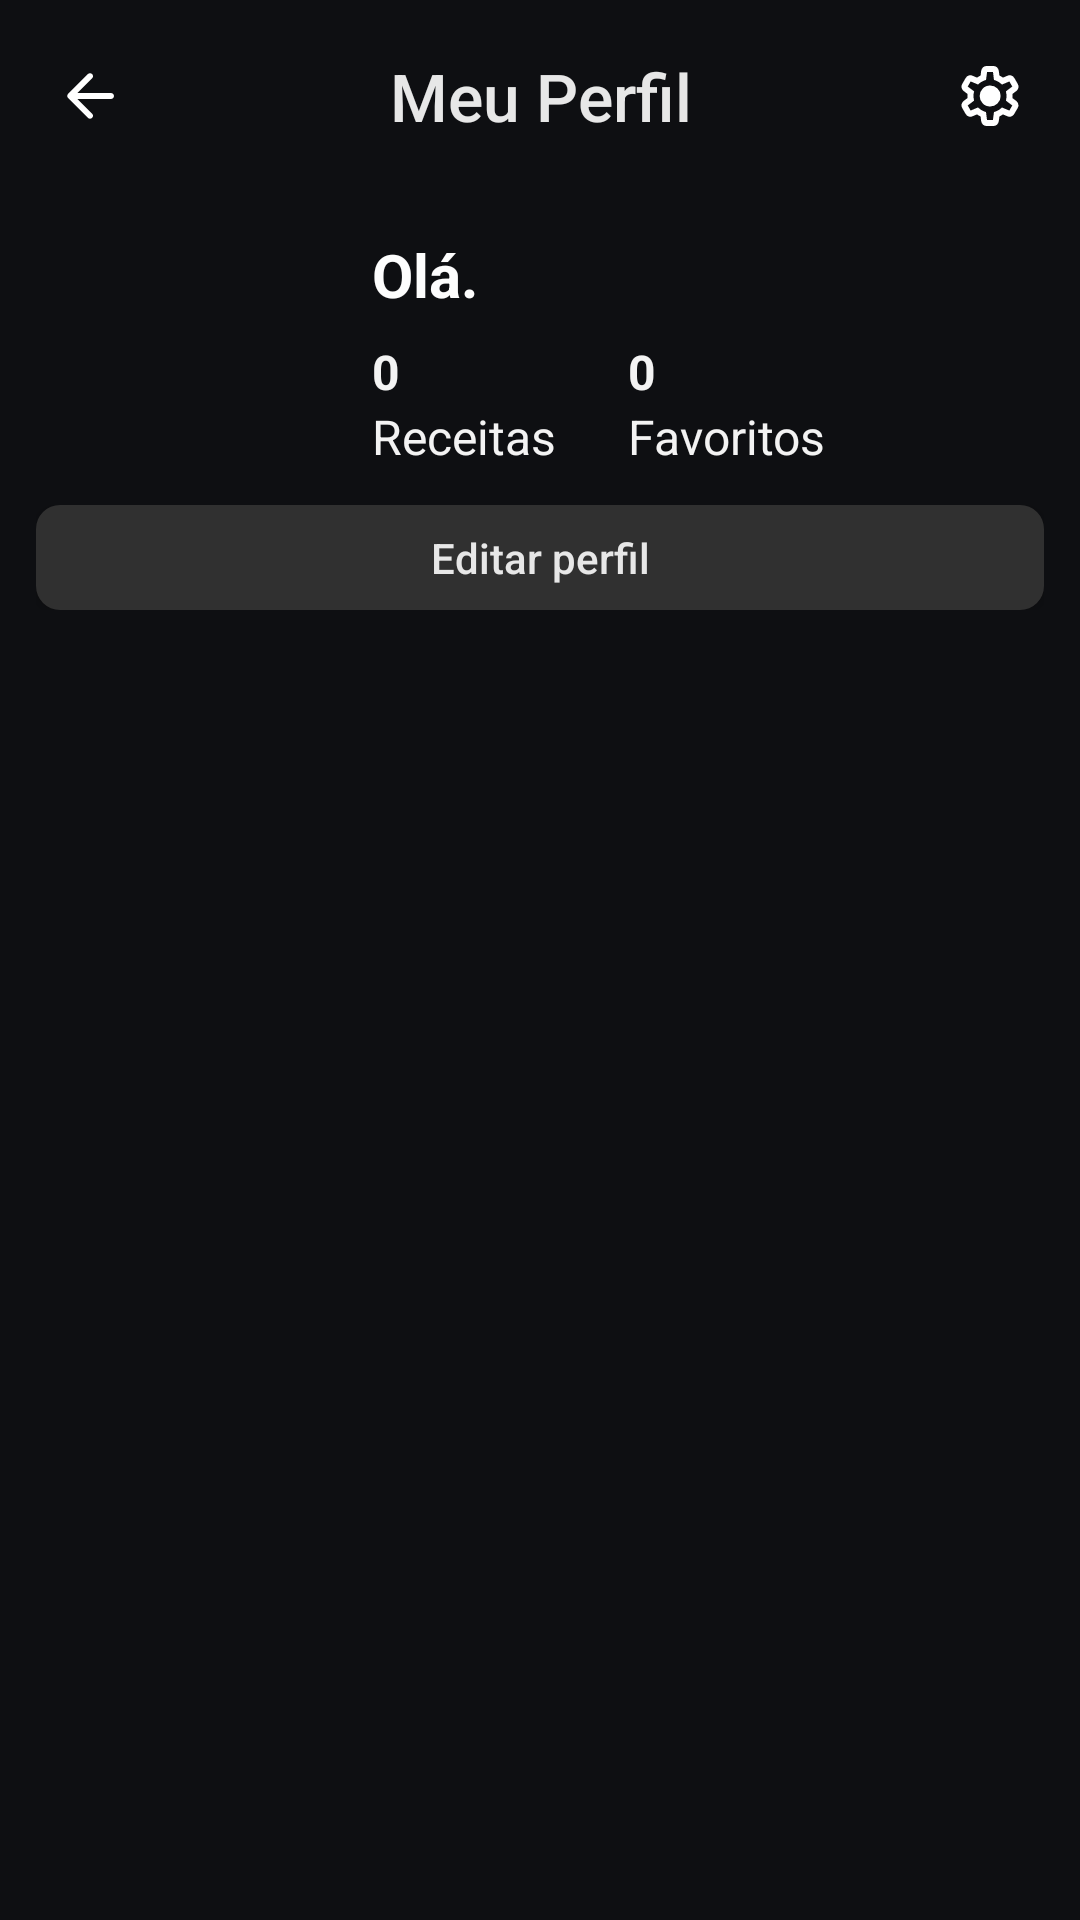

Screen size 1080 x 1920. Icon name, then its center in pixels as (x,y):
arrow back: (90,96)
settings: (990,96)
